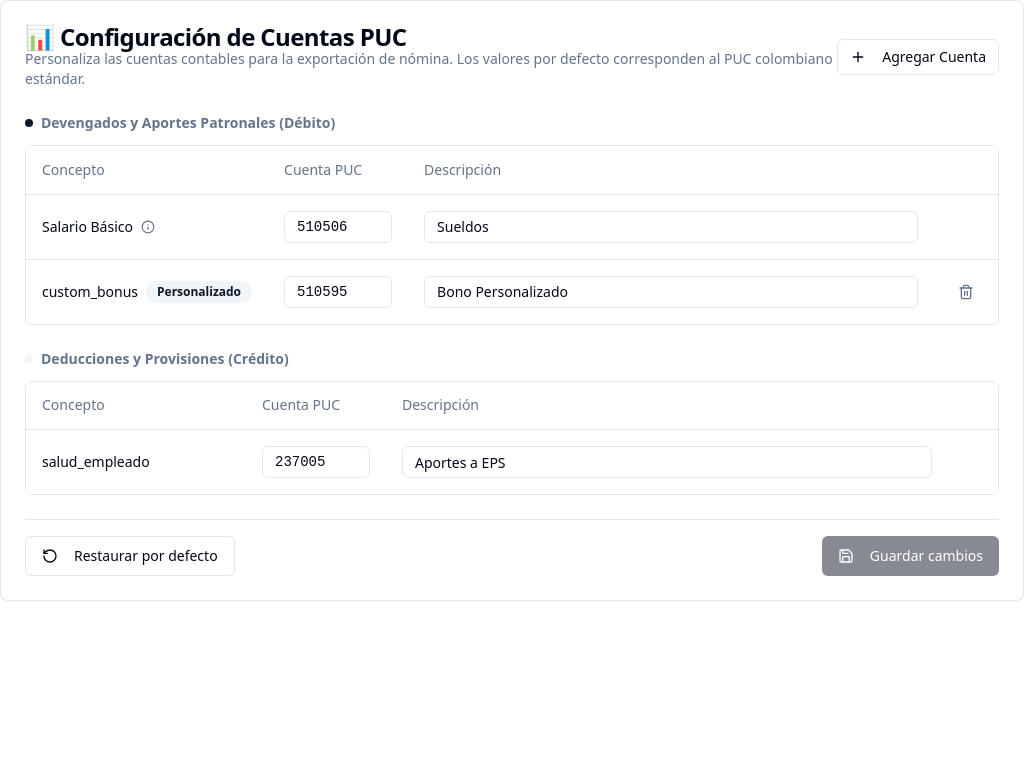
Scenario: PUCMappingEditor › should open dialog when clicking "Agregar Cuenta"
The width and height of the screenshot is (1024, 768).
Step 1. Click the button "Agregar Cuenta" → [918, 57], box top-left (837, 39), bottom-right (999, 75)
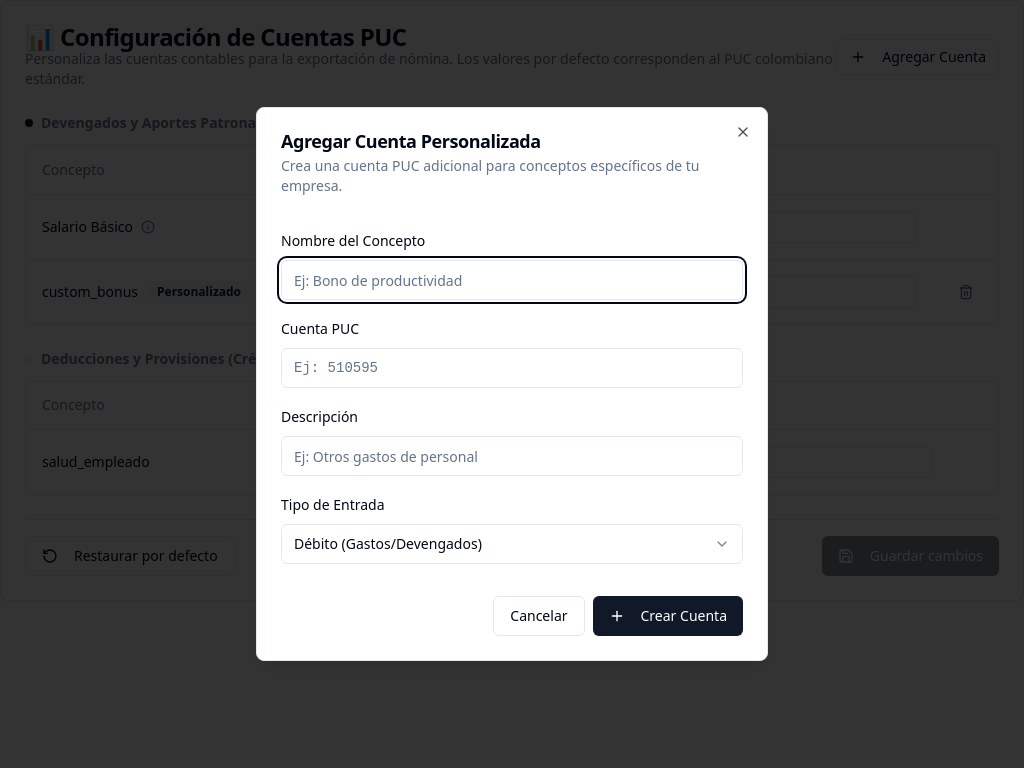
Expected: the heading "Agregar Cuenta Personalizada" is shown, top-left (281, 129), bottom-right (541, 153)
Expected: the field labelled "Nombre del Concepto" is shown, top-left (281, 260), bottom-right (743, 300)
Expected: the field labelled "Cuenta PUC" is shown, top-left (281, 348), bottom-right (743, 388)
